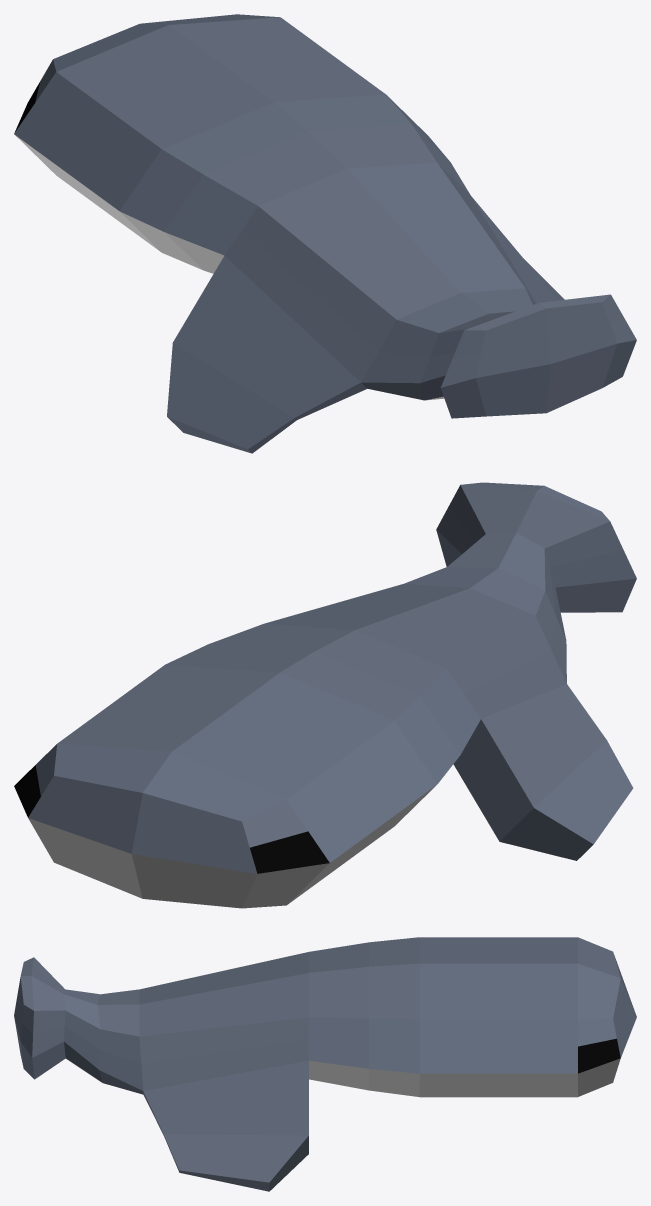
Rendered from whale.fbx.
The picture shows the model from 3 angles, top to bottom: view 1: azimuth 30°, elevation 25°; view 2: azimuth 150°, elevation 25°; view 3: azimuth 270°, elevation 25°; orthographic projection. The views are drawn at different scales.
Parts seen in each view (by area): view 1: Cube.001; view 2: Cube.001; view 3: Cube.001.
Part boxes in pixels (x1,y1,x2,y2): Cube.001: (14,14,636,453); Cube.001: (14,482,636,908); Cube.001: (14,937,636,1191).
Bounding box in the file's own units: 475 × 231 × 825.
